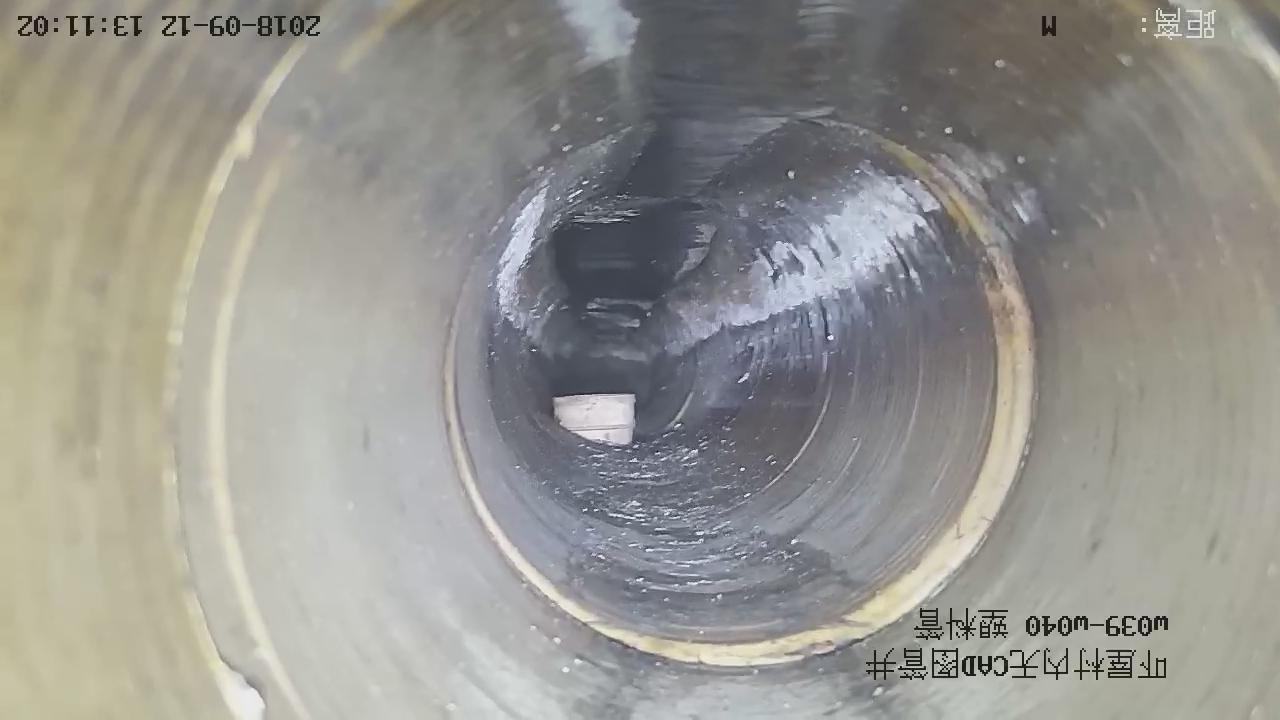CKTJ: (443, 136, 1035, 667)
ZGAJ: (554, 394, 636, 445)
